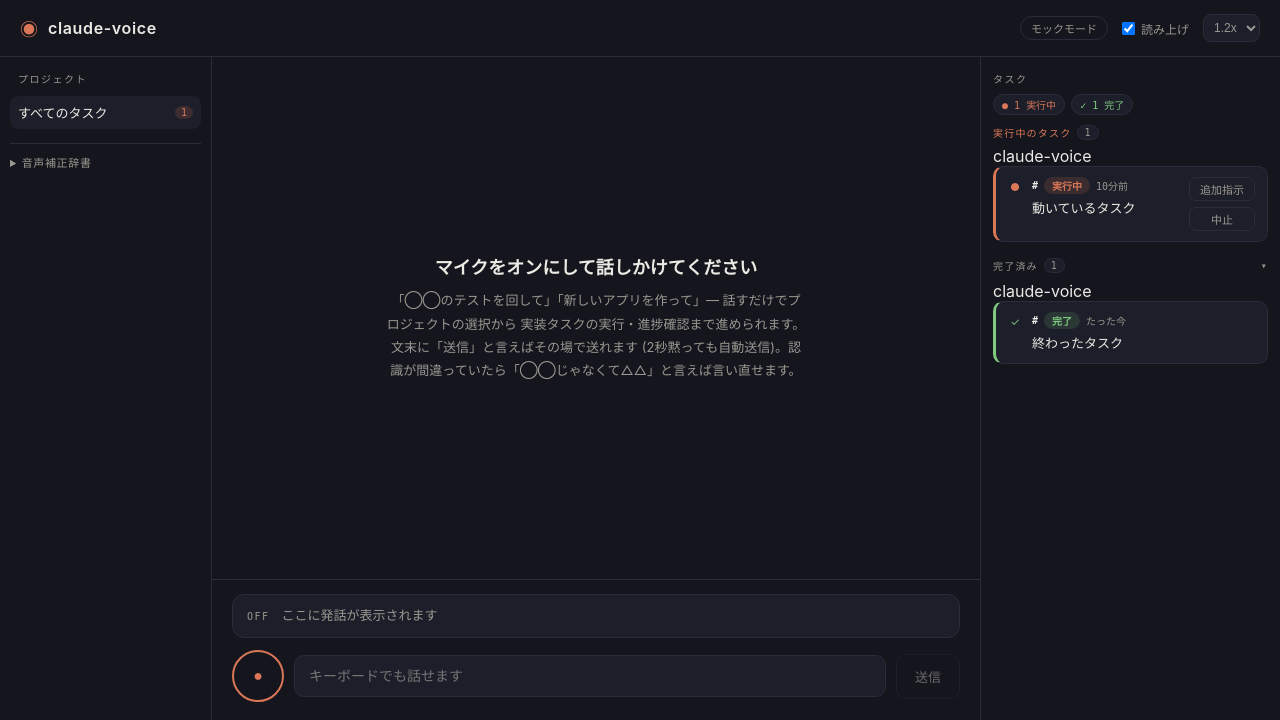
App › collapses and re-expands the finished section from its header
This screenshot has width=1280, height=720.
Expected: the text "終わったタスク" is shown, [1032,333,1123,353]
Click the button "完了済み 1 ▾": {"x": 1015, "y": 266} [993,256,1268,275]
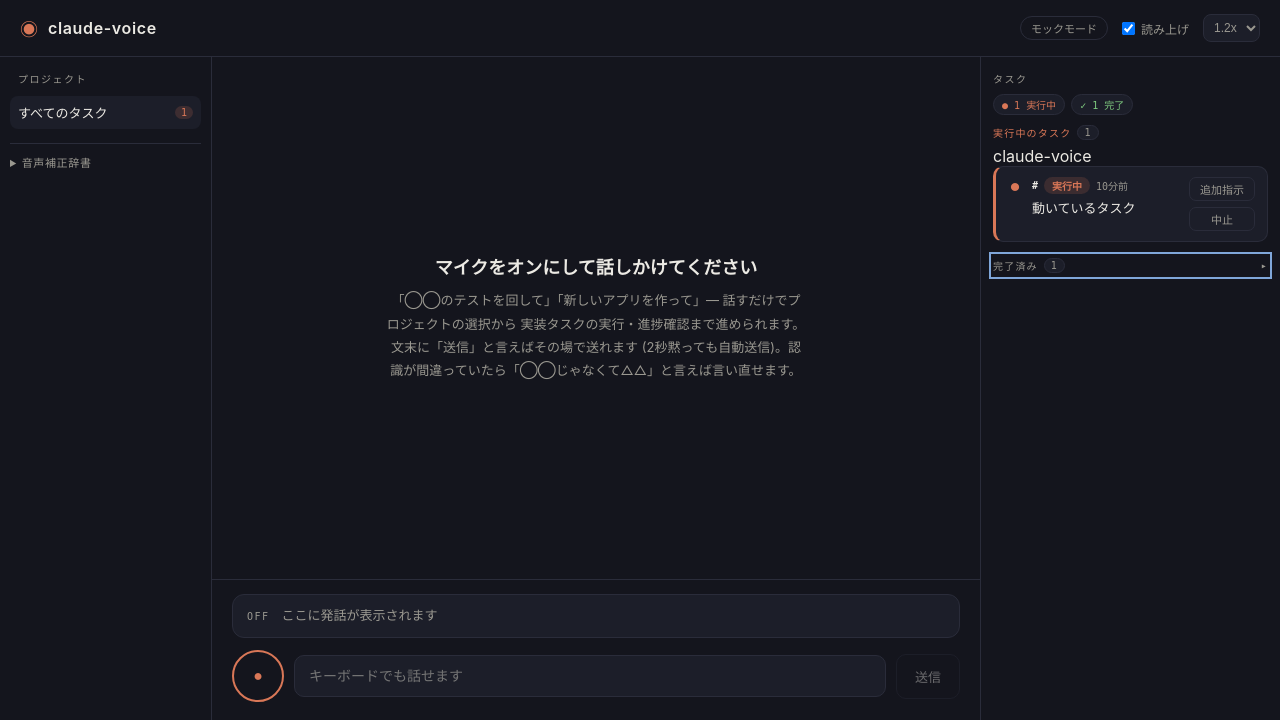
Expected: the text "動いているタスク" is shown, [1032,198,1136,218]
Result: the button "終わったタスク" is gone
Result: the button "完了済み 1 ▸" is collapsed
Click the button "完了済み 1 ▸": {"x": 1015, "y": 266} [993,256,1268,275]
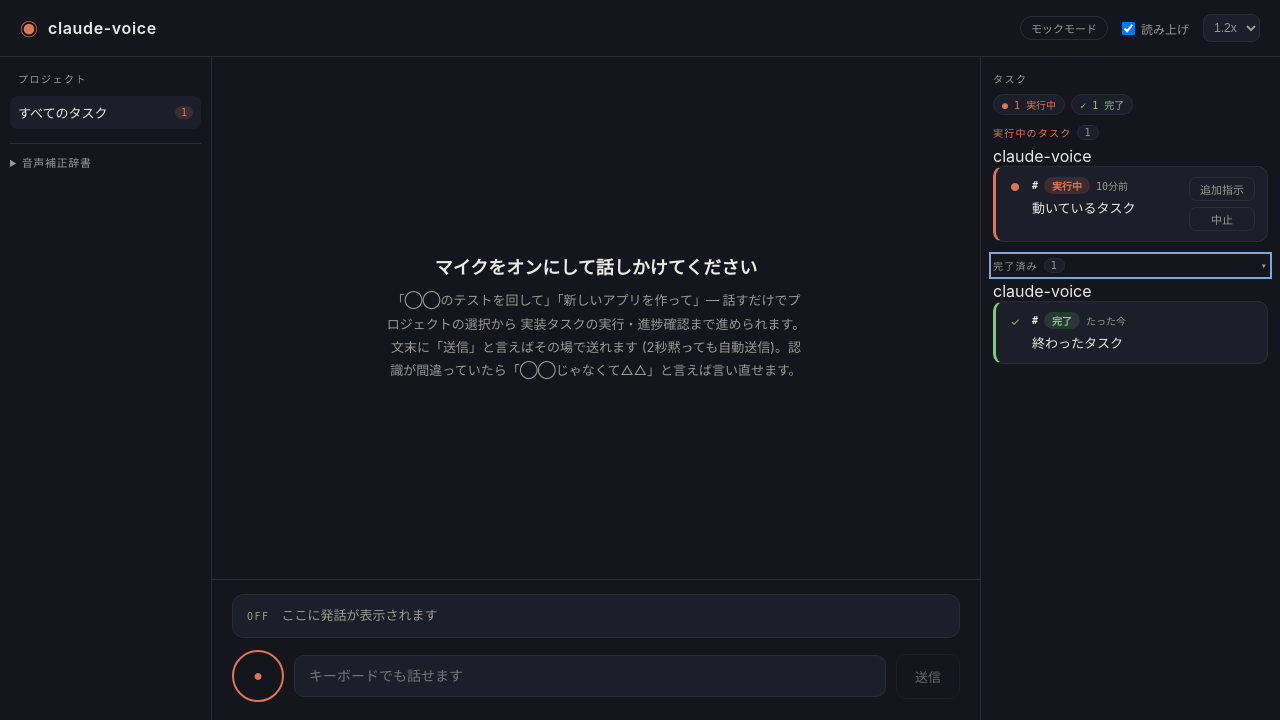
Result: the text "終わったタスク" is shown at [1032,333,1123,353]
